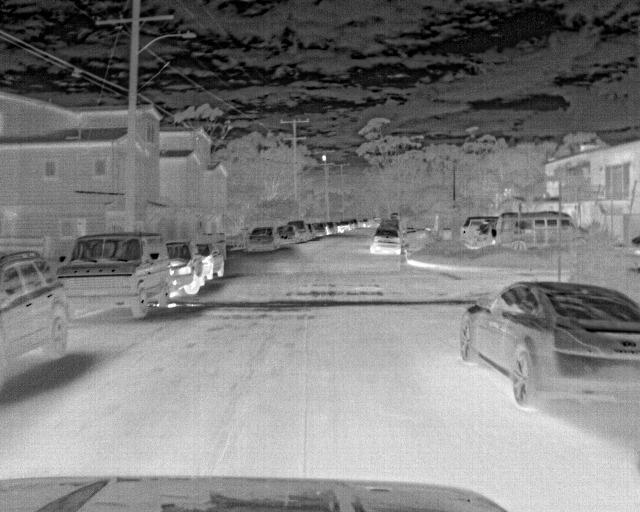car: (457, 277, 639, 407), (53, 230, 168, 316), (0, 245, 74, 368), (498, 210, 588, 252), (165, 241, 208, 295), (459, 217, 496, 247), (244, 225, 281, 254), (371, 227, 403, 258), (195, 241, 215, 280), (275, 225, 299, 245), (312, 222, 328, 236)
